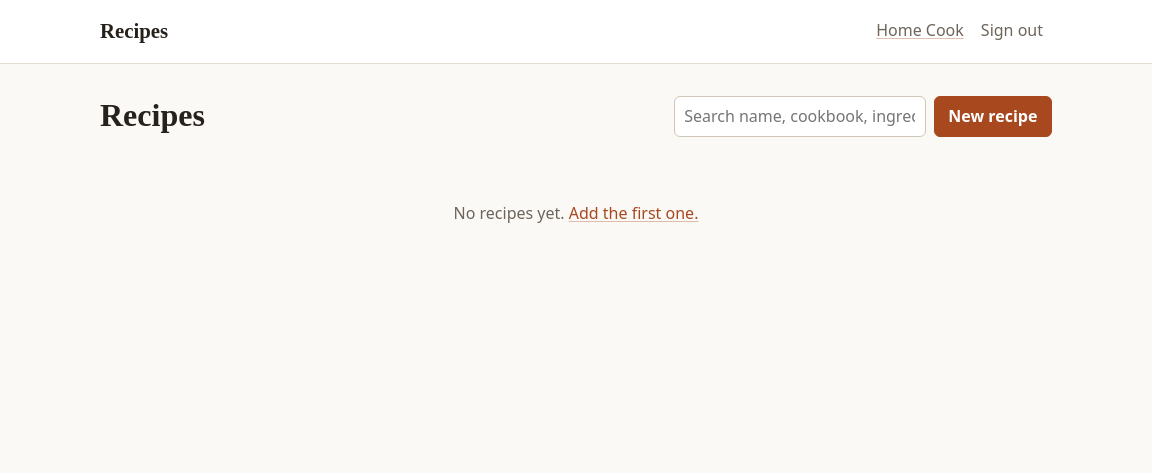
Test: account page › is linked from your name in the header
Click the link "Home Cook" at (920, 31), box [876, 18, 964, 43]
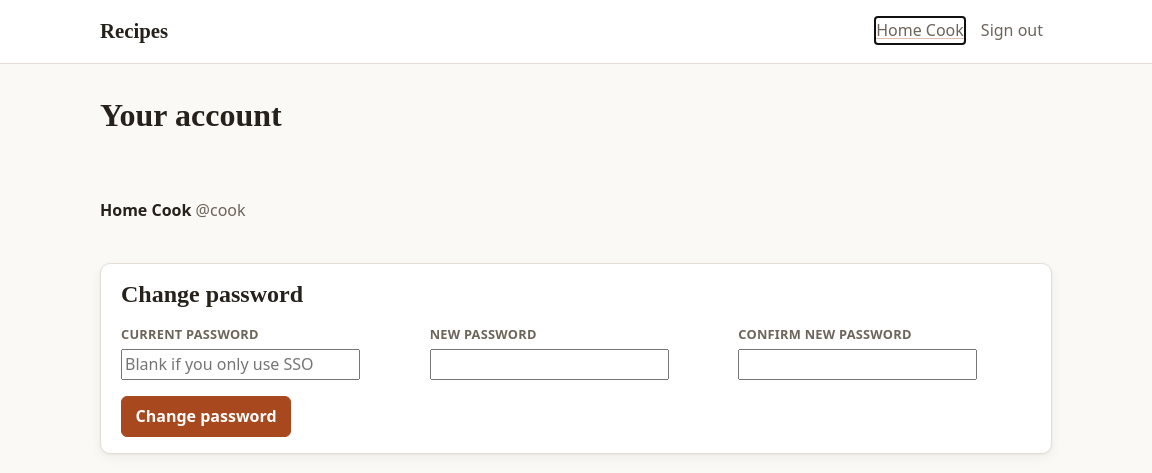
Now the heading "Your account" is shown, box [100, 96, 282, 134]
